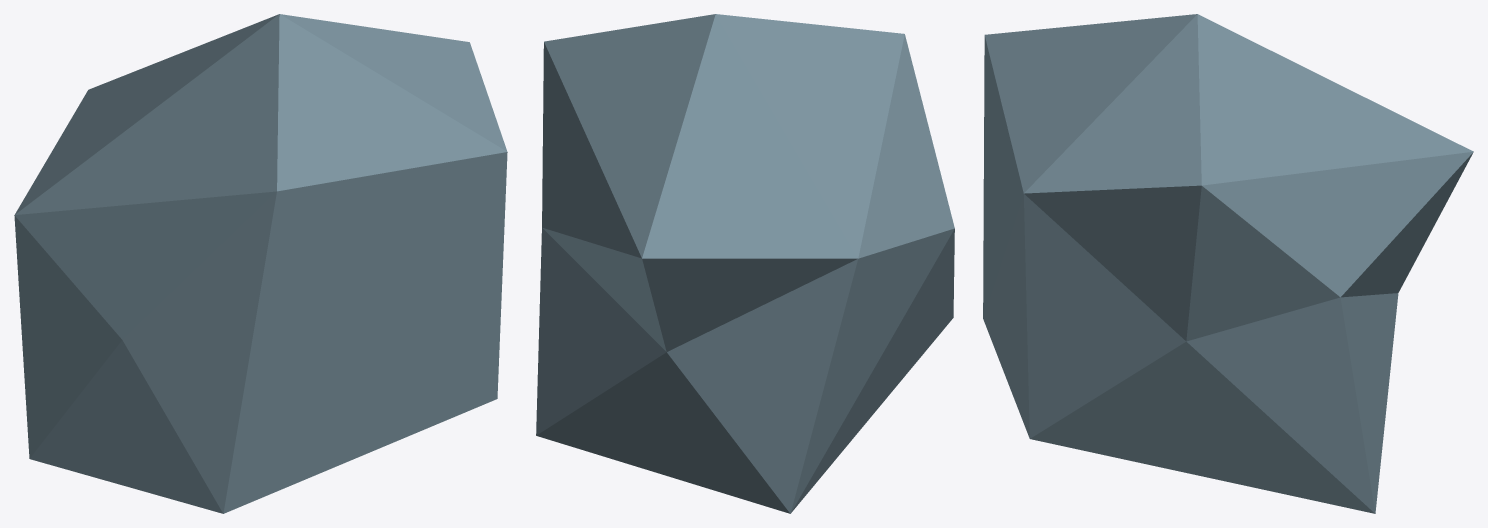
File: rock.fbx
3 renders of one model, left to right at view 1: azimuth 30°, elevation 25°; view 2: azimuth 150°, elevation 25°; view 3: azimuth 270°, elevation 25°, orthographic. The views are drawn at different scales.
Parts seen in each view (by area): view 1: mesh_1836726833; view 2: mesh_1836726833; view 3: mesh_1836726833.
Part boxes in pixels (x1,y1,x2,y2): mesh_1836726833: [14, 14, 507, 513]; mesh_1836726833: [536, 14, 954, 513]; mesh_1836726833: [983, 14, 1473, 513].
Size of the model in its own units: 29.46 by 32.2 by 30.63.
